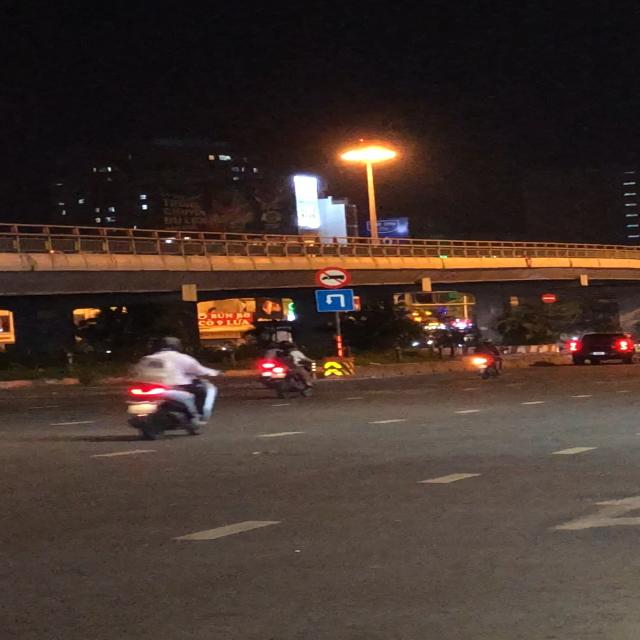Bien bao cam xe so-mi ro-mooc: (314, 265, 353, 289)
